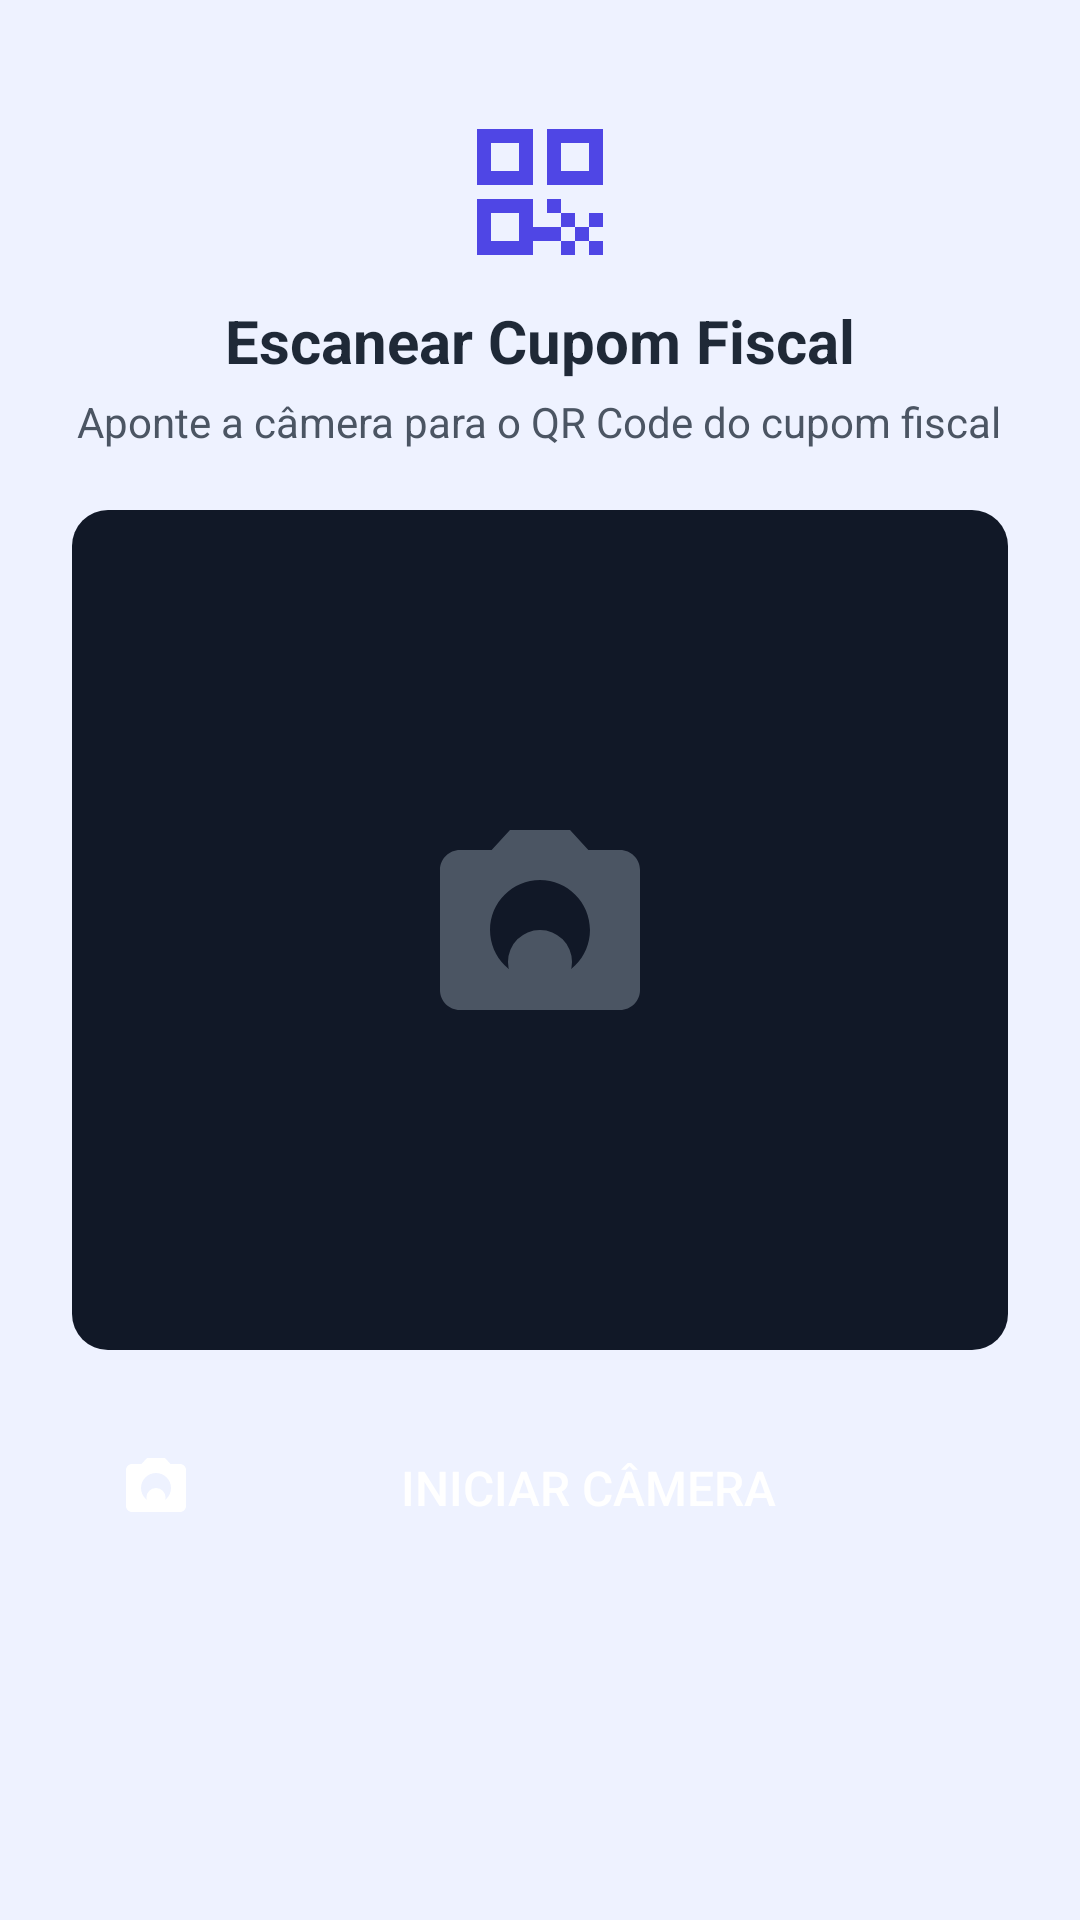

Icons on this 1080 × 1920 Android screen, each with the point to tap as [x,y]:
camera: [540,920]
